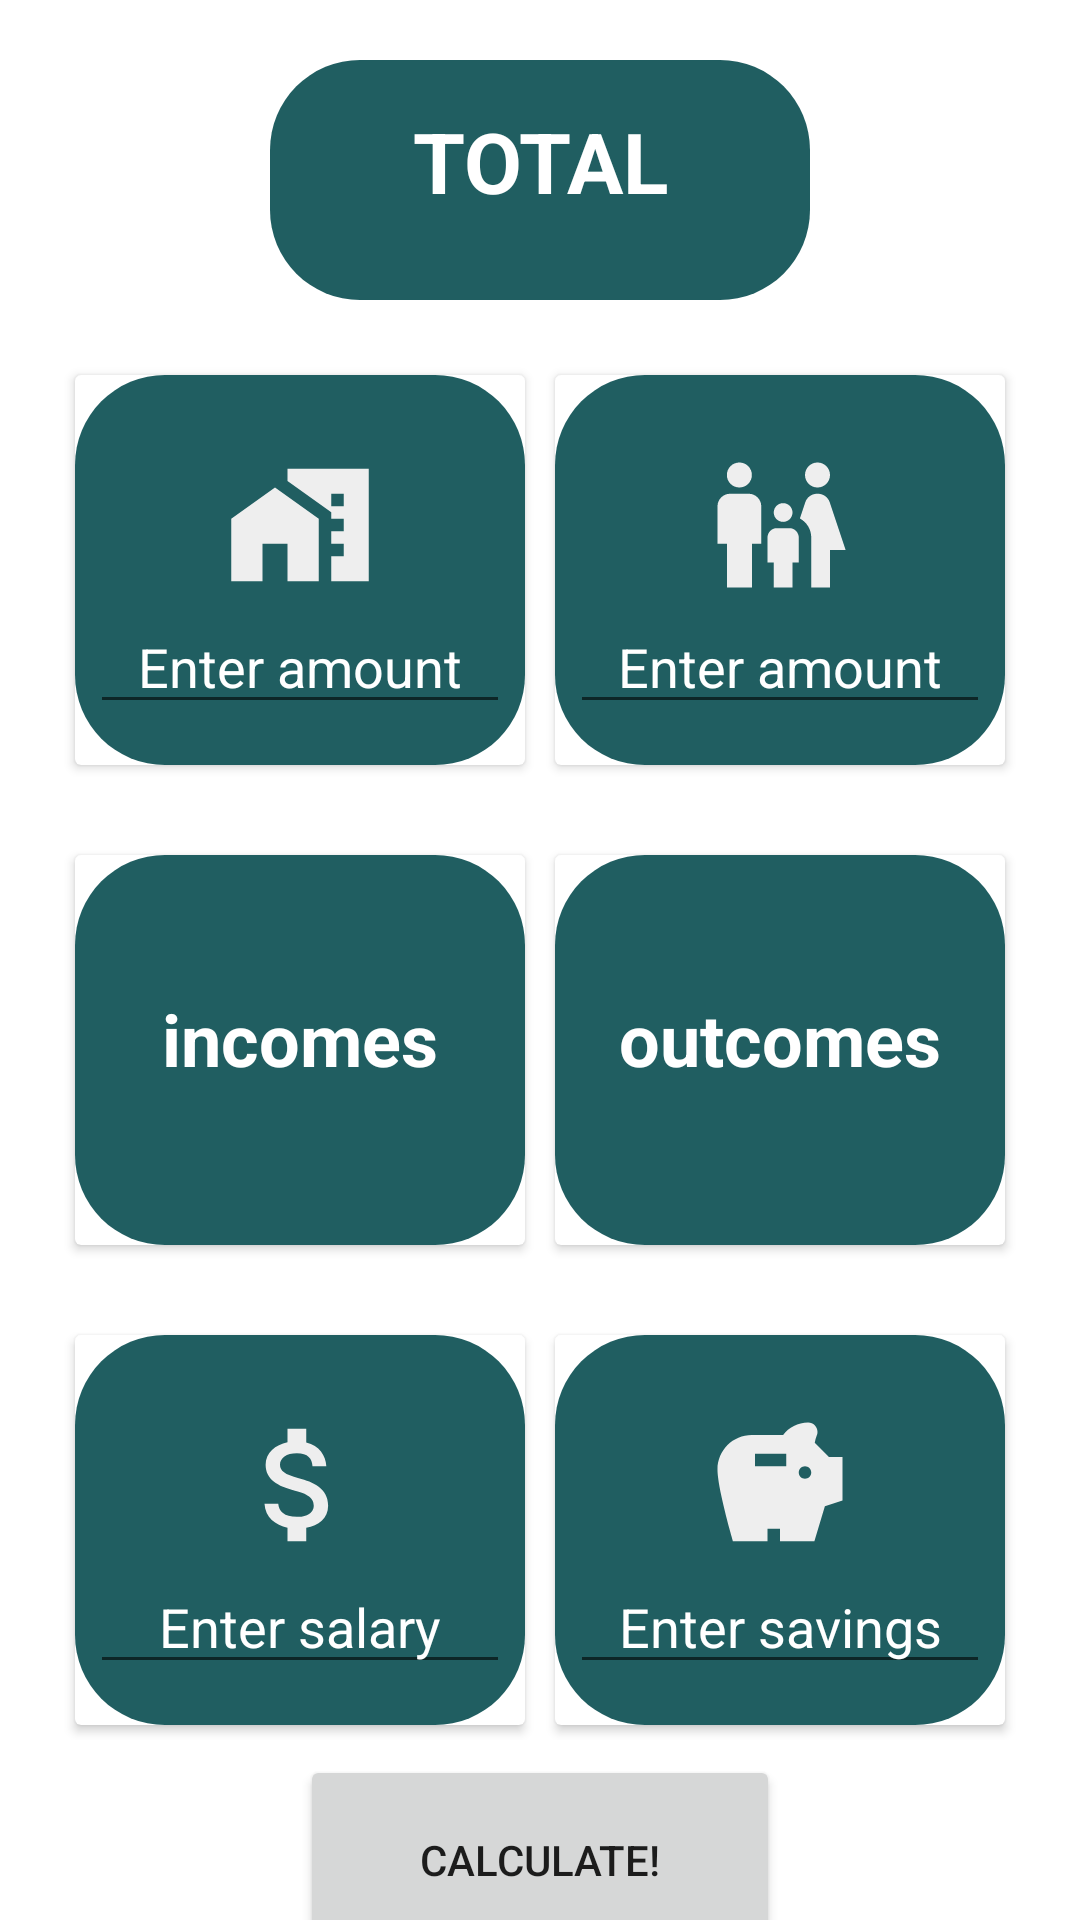

Locate icon controls on the screen. Image size 1080×1920, boxes as (x1, y1, x2, y2).
family expense: (717, 462, 846, 588)
home expense: (231, 468, 369, 582)
income: (264, 1428, 328, 1542)
